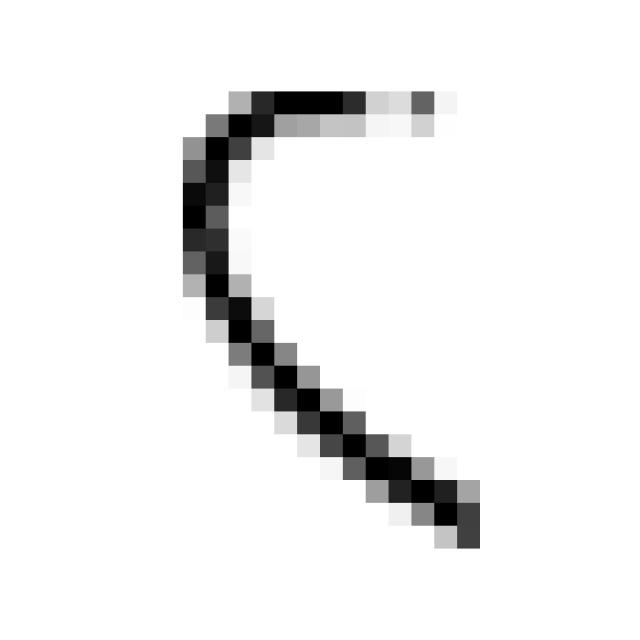2 -two-: (160, 64, 504, 571)
